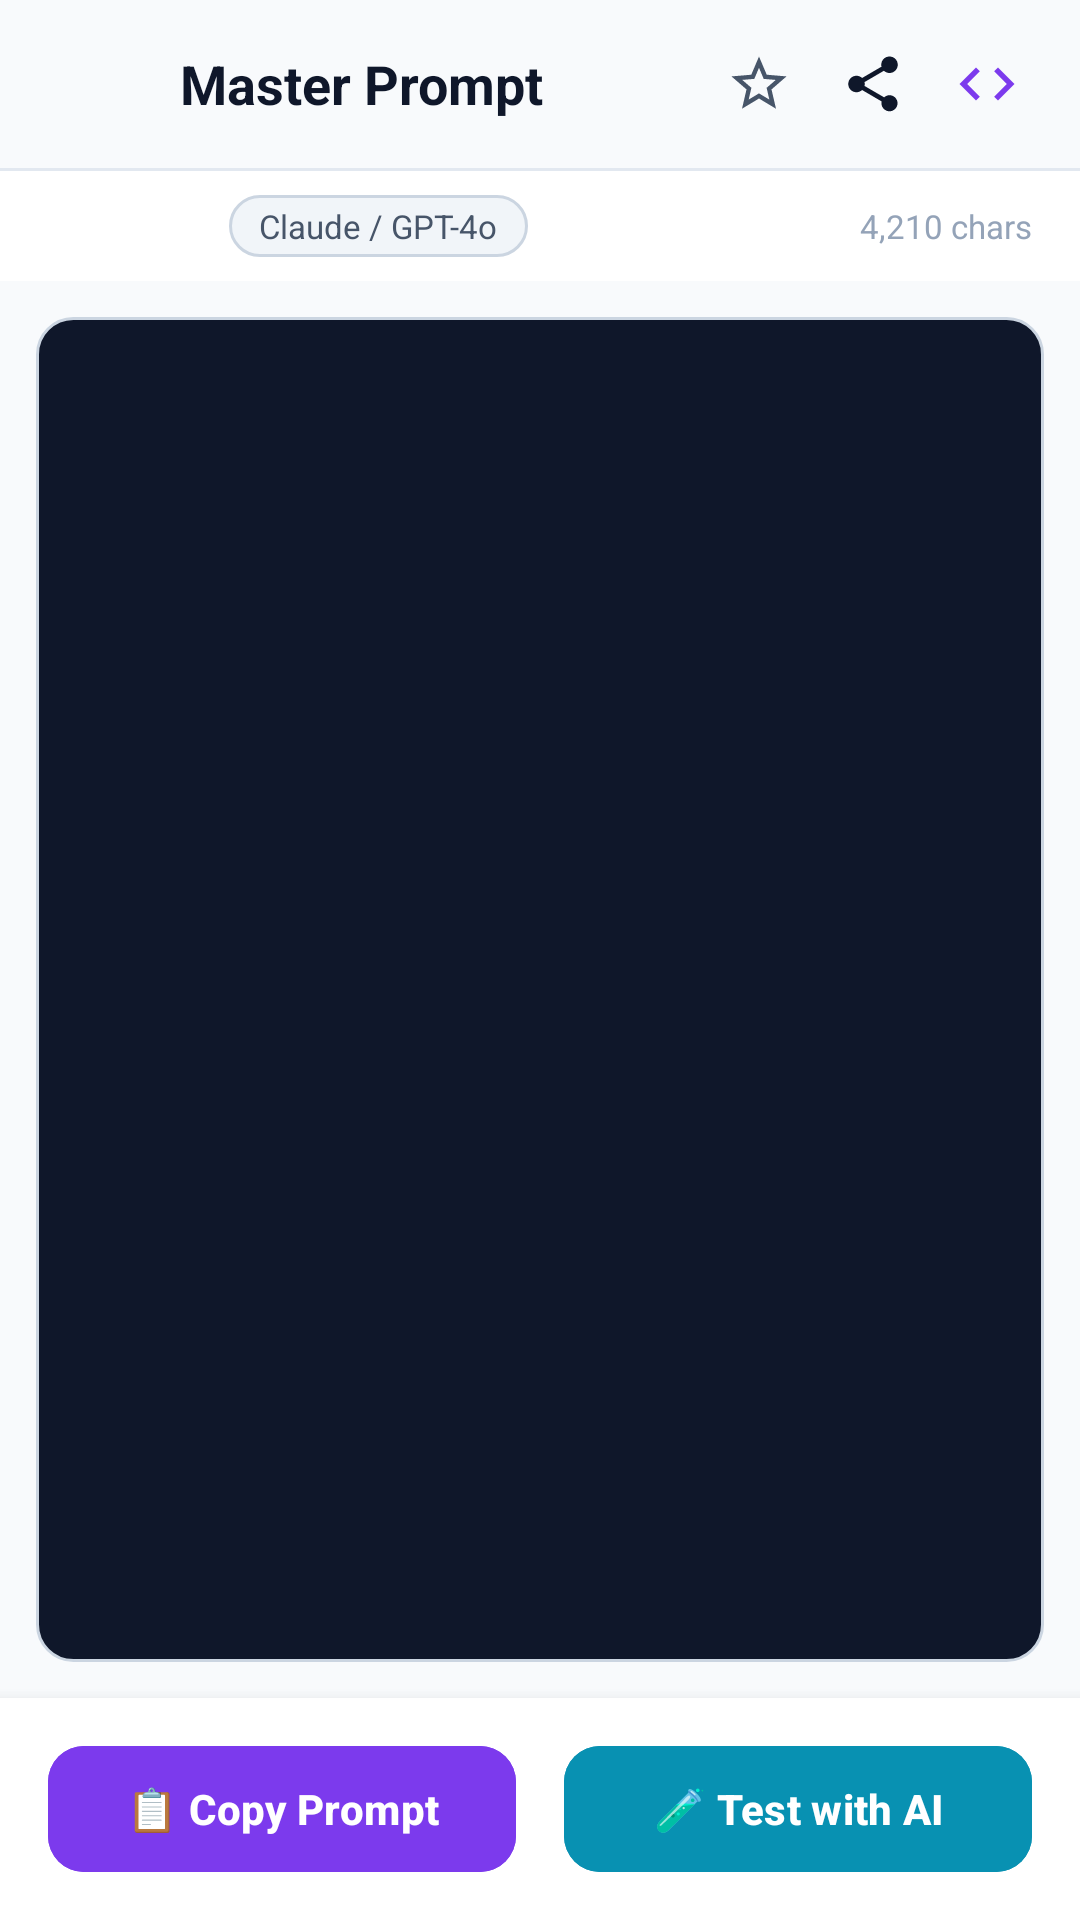

Icon click points for this 1080 × 1920 phone screenshot, format (x=x, y=y):
code: (x=987, y=84)
share: (x=873, y=84)
star: (x=759, y=83)
